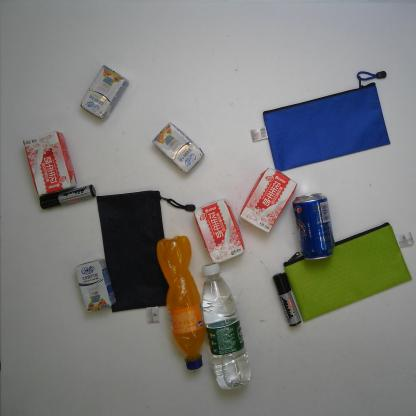Drink: (156, 235, 206, 371), (201, 262, 252, 391), (292, 192, 335, 262)
Milk: (240, 167, 299, 234), (22, 130, 78, 196), (193, 198, 246, 264), (151, 122, 205, 174), (80, 64, 129, 120), (74, 258, 117, 313)
Stationery: (248, 70, 391, 172), (282, 221, 416, 322), (96, 190, 196, 324), (273, 270, 302, 328), (38, 184, 96, 211)
